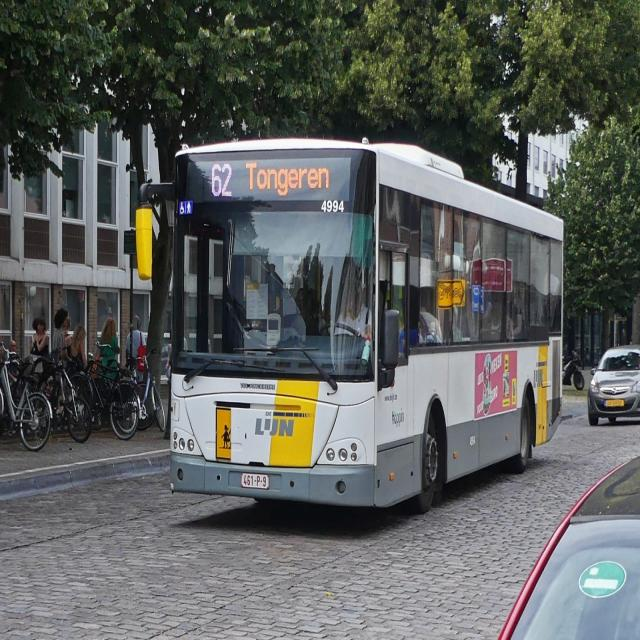bus-number: (209, 162, 235, 200)
